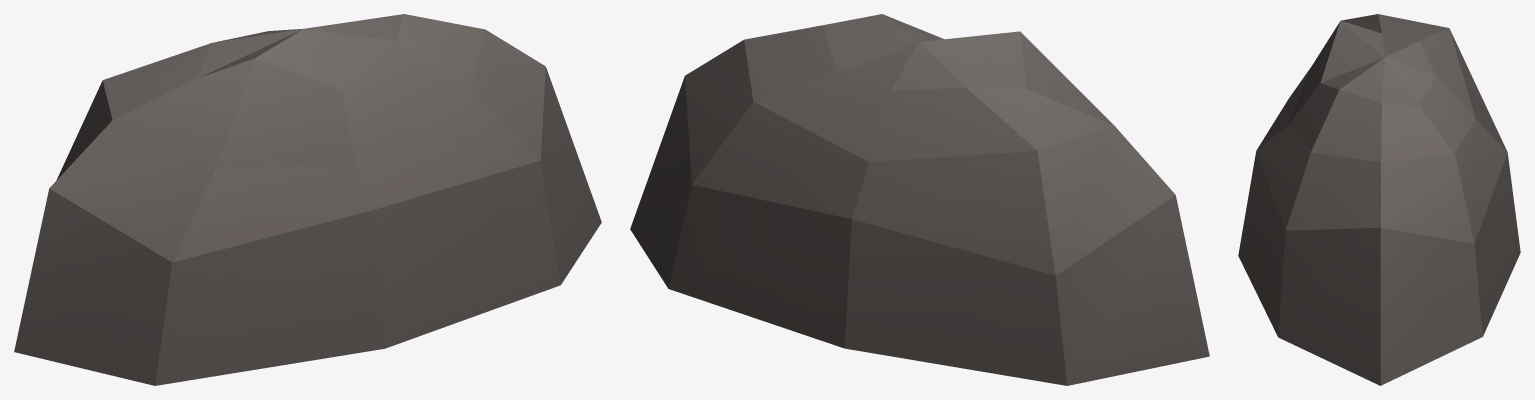
File: pedra2.fbx
The picture shows the model from 3 angles, left to right: view 1: azimuth 30°, elevation 25°; view 2: azimuth 150°, elevation 25°; view 3: azimuth 270°, elevation 25°; orthographic projection. The views are drawn at different scales.
Visible parts, largest first — view 1: pSphere10; view 2: pSphere10; view 3: pSphere10.
Boxes of the visible parts, x1,y1,x2,y2 form: pSphere10: [14, 14, 601, 385]; pSphere10: [630, 14, 1209, 385]; pSphere10: [1238, 14, 1520, 385].
Size of the model in its own units: 5.79 by 2.57 by 2.99.
